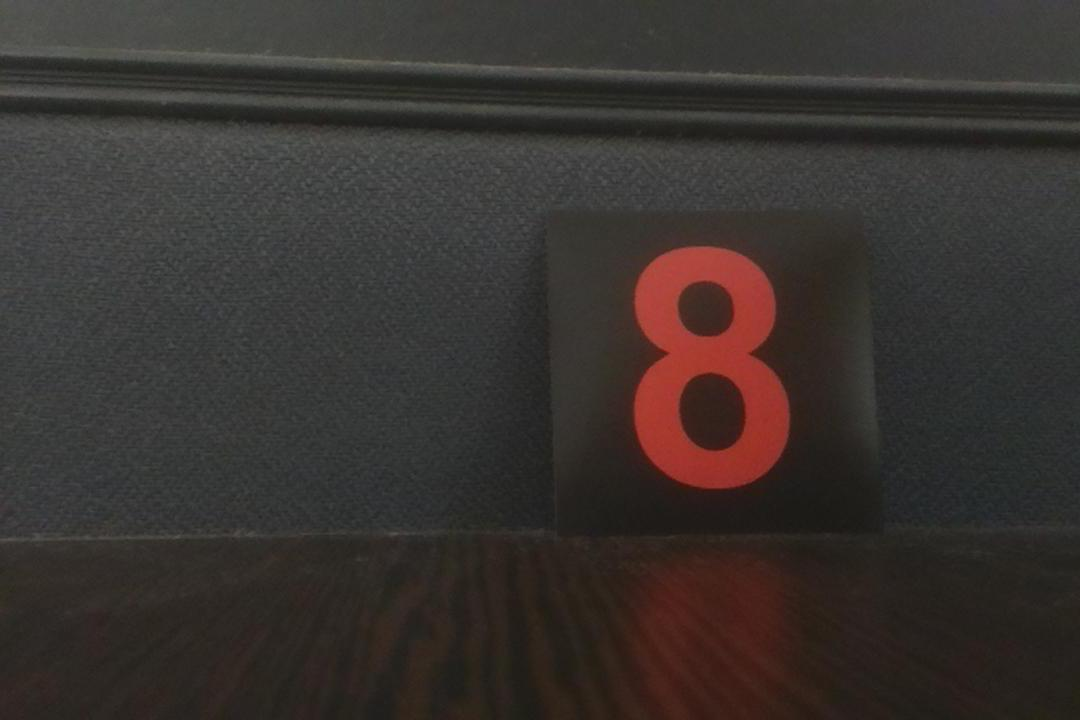eight: (545, 208, 887, 537)
